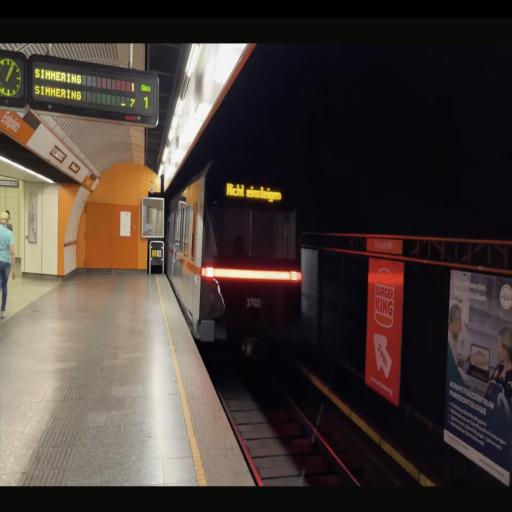X-Wagen: (169, 169, 301, 340)
